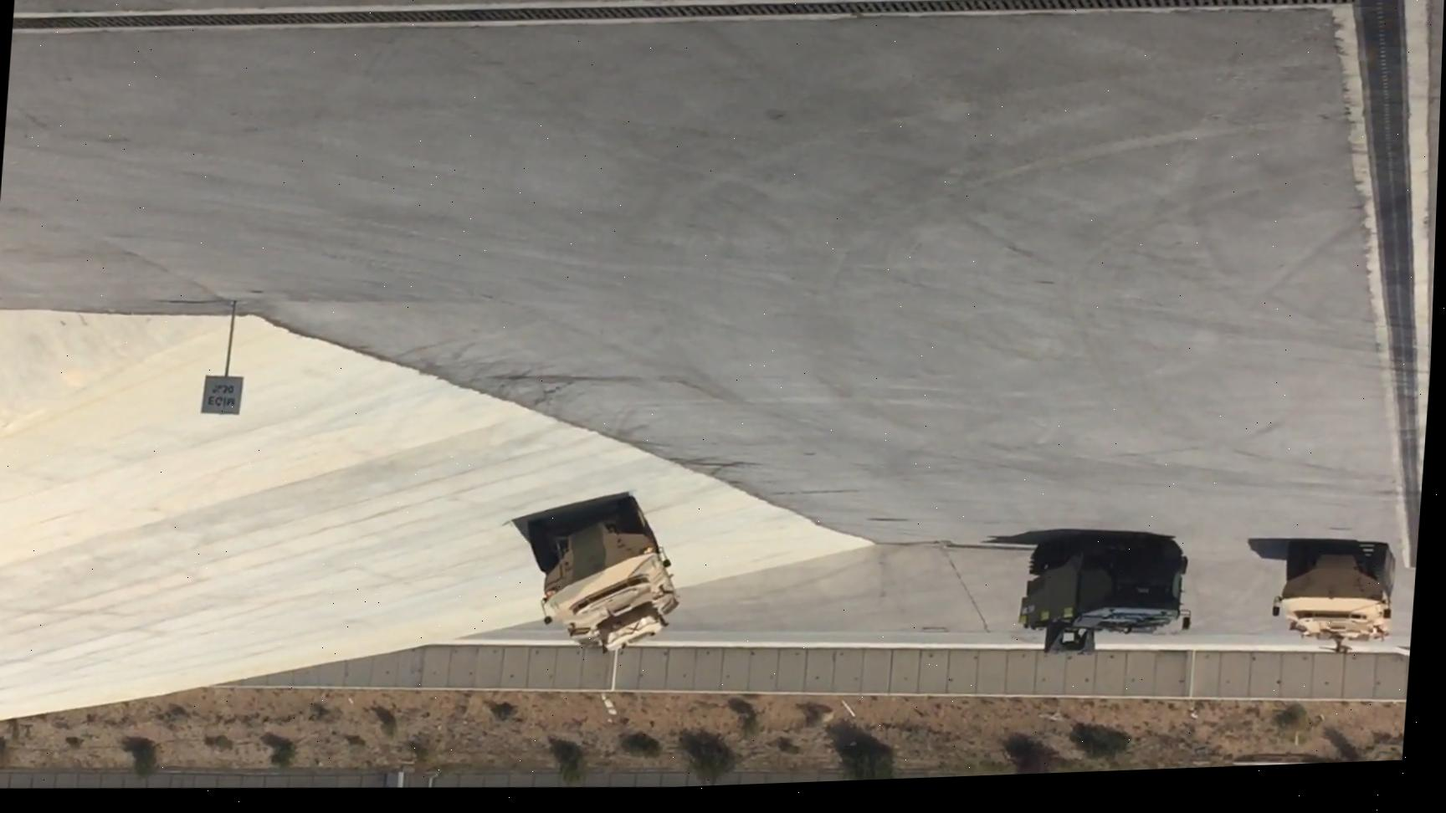armored_car: (495, 503, 690, 667), (1248, 520, 1411, 665)
